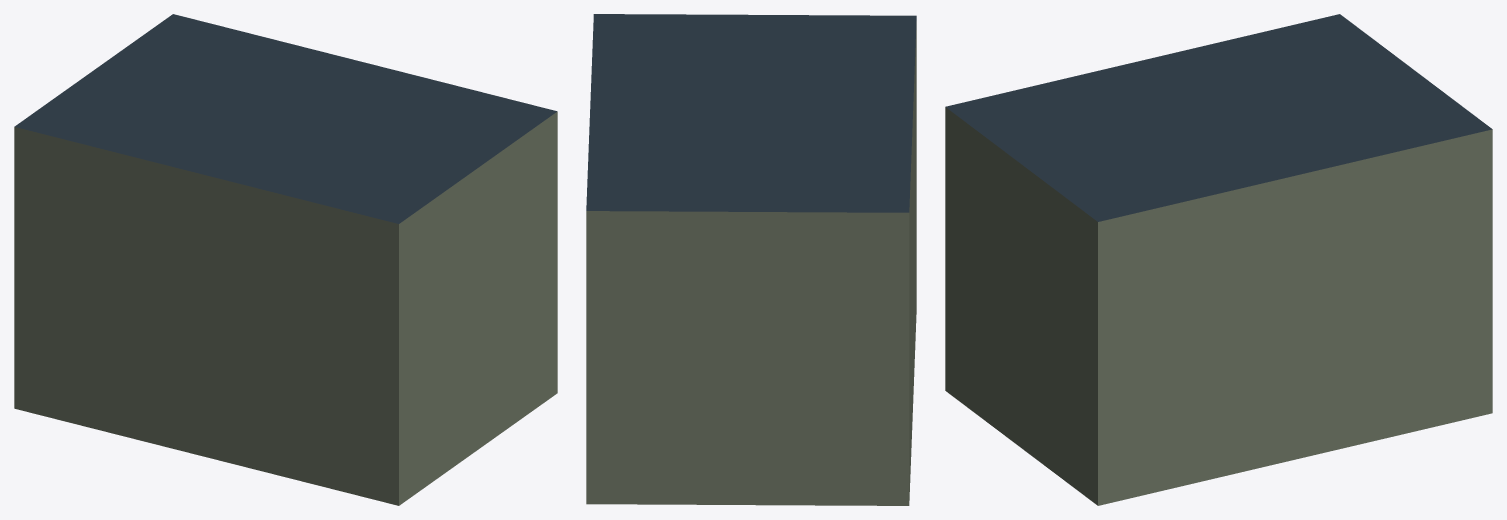
Rendered from nyc-1024685-0.glb.
3 renders of one model, left to right at view 1: azimuth 30°, elevation 25°; view 2: azimuth 150°, elevation 25°; view 3: azimuth 270°, elevation 25°, orthographic. The views are drawn at different scales.
Visible parts, largest first — view 1: nyc-1024685-0; view 2: nyc-1024685-0; view 3: nyc-1024685-0.
Part boxes in pixels (x1=…): nyc-1024685-0: x1=14, y1=14, x2=557, y2=505; nyc-1024685-0: x1=586, y1=14, x2=916, y2=505; nyc-1024685-0: x1=945, y1=14, x2=1492, y2=505.
Size of the model in its own units: 33.21 by 21.13 by 36.93.
